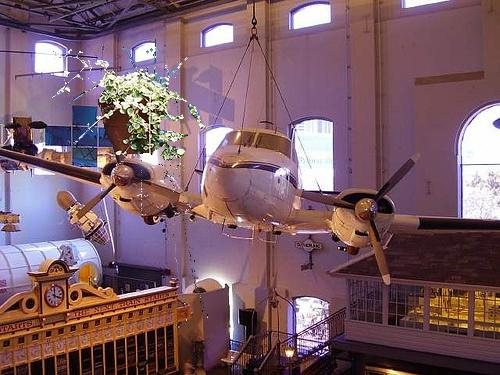tampered: (53, 40, 208, 343)
